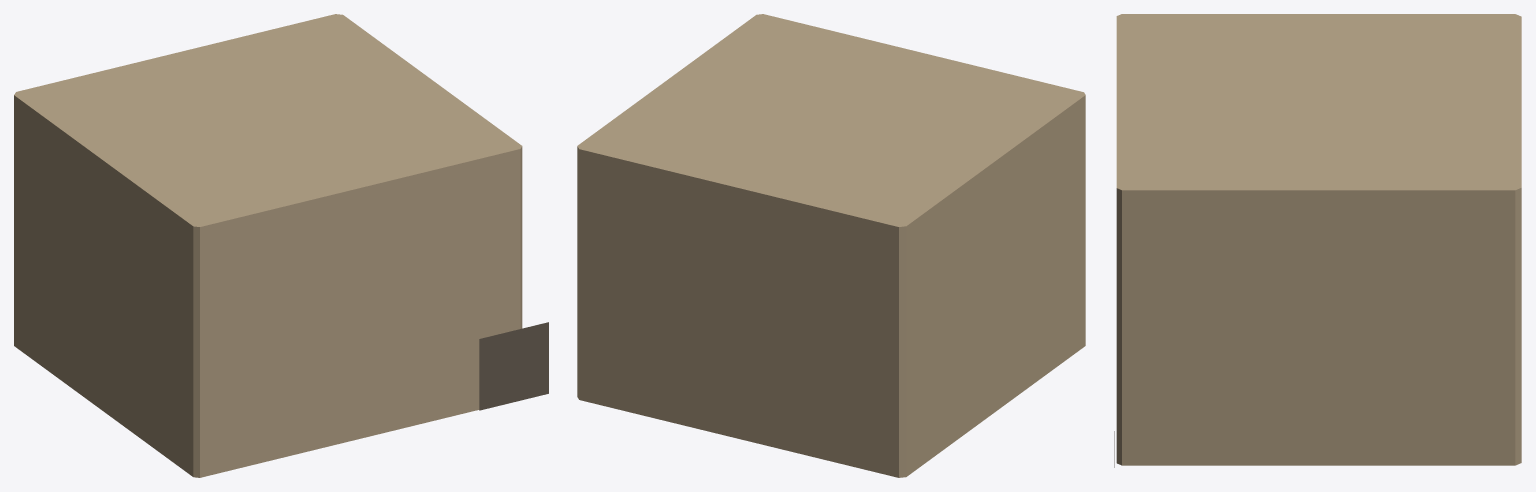
The model's file is loin-etape-1.glb.
3 views of the same model, side by side, from view 1: azimuth 30°, elevation 25°; view 2: azimuth 150°, elevation 25°; view 3: azimuth 270°, elevation 25° (orthographic). The views are drawn at different scales.
Parts seen in each view (by area): view 1: loin; view 2: loin; view 3: loin.
Part boxes in pixels (<box>): loin: <box>14,14,548,477</box>; loin: <box>577,14,1085,477</box>; loin: <box>1114,14,1521,467</box>.
Bounding box in the file's own units: 0.736 × 0.5008 × 0.671.
